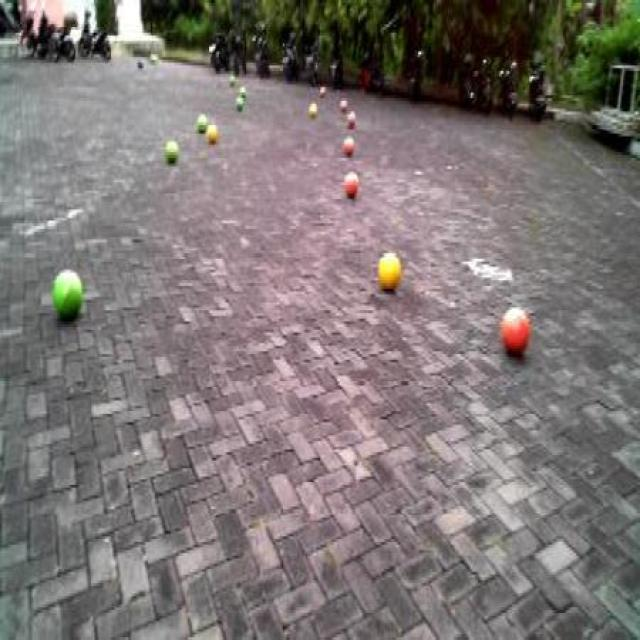buoy: (47, 257, 88, 335), (498, 299, 532, 362), (372, 241, 406, 301)
